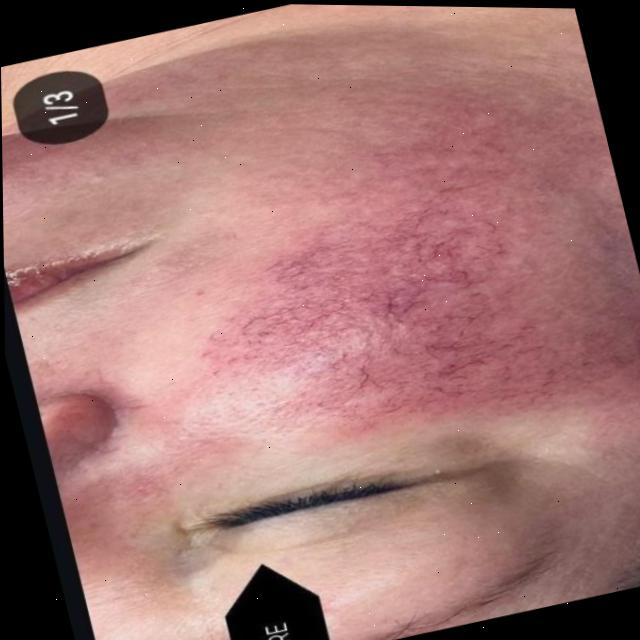Rosacea: (144, 79, 634, 488)
